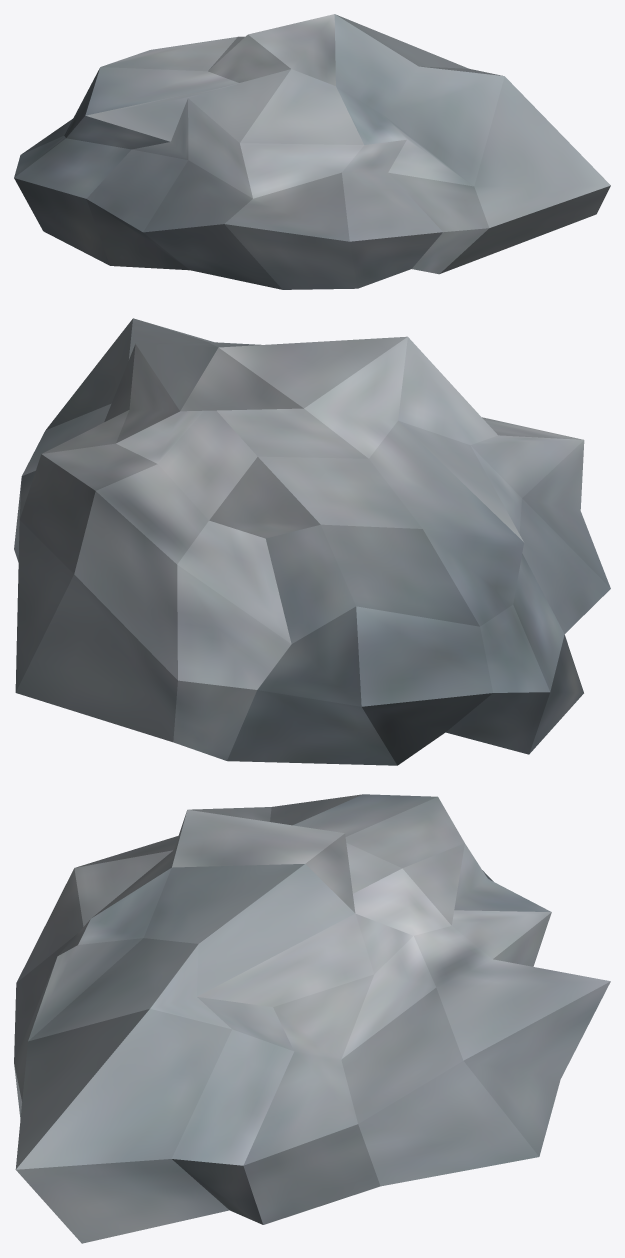
The model's file is stone_3.fbx.
3 views of the same model, one above another, from view 1: azimuth 30°, elevation 25°; view 2: azimuth 150°, elevation 25°; view 3: azimuth 270°, elevation 25° (orthographic). The views are drawn at different scales.
Parts seen in each view (by area): view 1: Cube.001; view 2: Cube.001; view 3: Cube.001.
Part boxes in pixels (left/top/right/bottom): Cube.001: left=14, top=14, right=610, bottom=289; Cube.001: left=14, top=318, right=610, bottom=765; Cube.001: left=14, top=794, right=610, bottom=1243.
Size of the model in its own units: 61.24 by 23.91 by 50.29.
